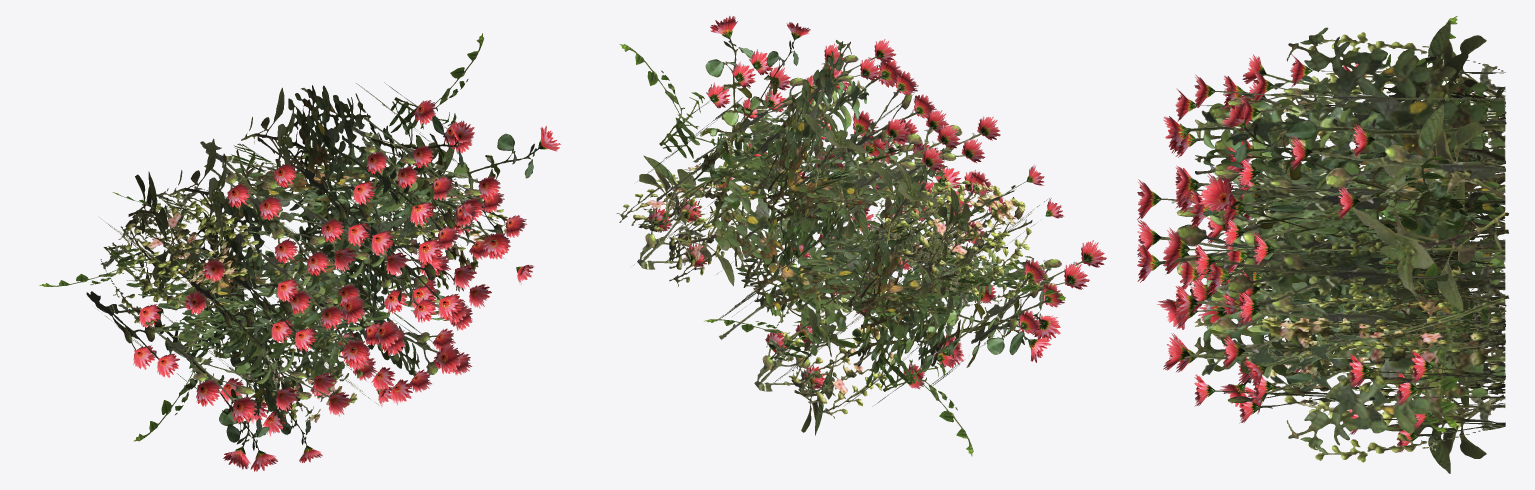
The model's file is foliage_gardenflowers_red_group_LOD0.obj.
3 views of the same model, side by side, from view 1: azimuth 30°, elevation 25°; view 2: azimuth 150°, elevation 25°; view 3: azimuth 270°, elevation 25° (orthographic). The views are drawn at different scales.
Parts seen in each view (by area): view 1: mtl_gardenflowers; view 2: mtl_gardenflowers; view 3: mtl_gardenflowers.
Part boxes in pixels (x1,y1,x2,y2): mtl_gardenflowers: [39, 33, 560, 471]; mtl_gardenflowers: [616, 16, 1106, 456]; mtl_gardenflowers: [1137, 16, 1509, 473].
Size of the model in its own units: 117 by 89.18 by 66.35.
